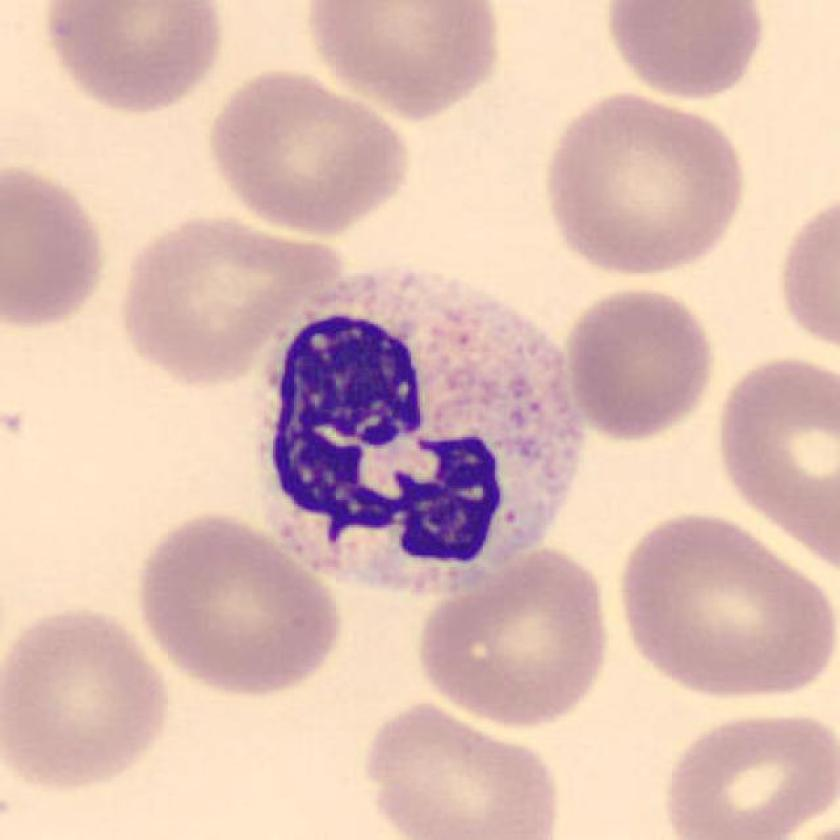neutrophil: (262, 270, 580, 594)
